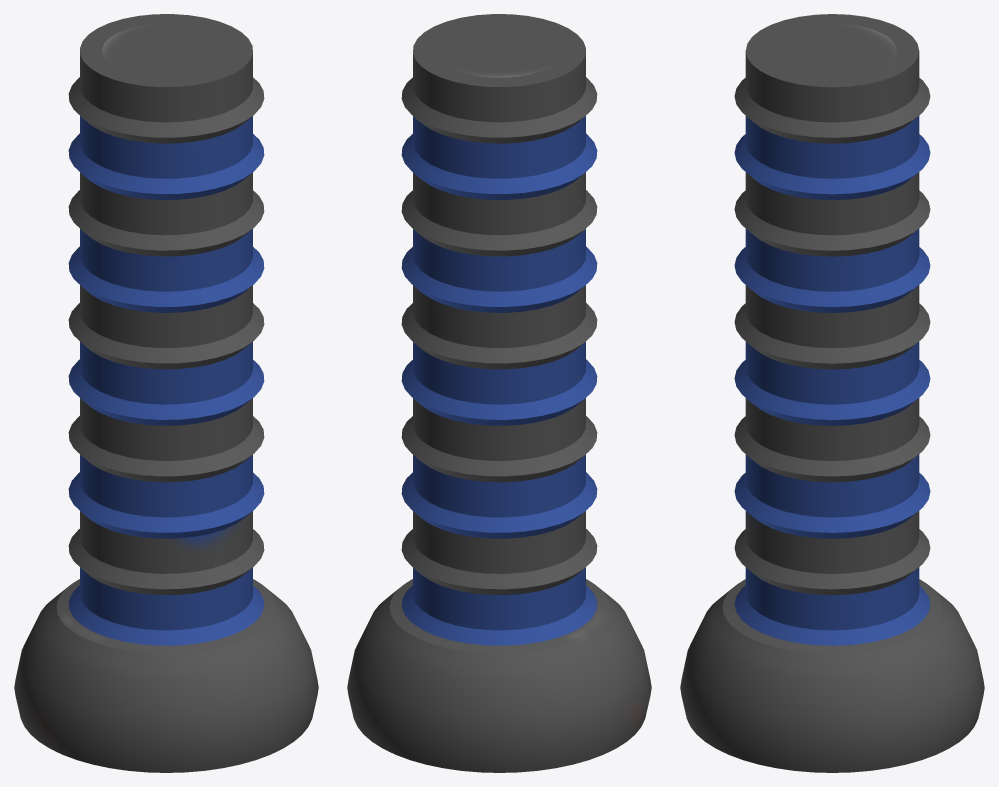
Rendered from foodtubejoined.fbx.
3 renders of one model, left to right at view 1: azimuth 30°, elevation 25°; view 2: azimuth 150°, elevation 25°; view 3: azimuth 270°, elevation 25°, orthographic.
Parts seen in each view (by area): view 1: Cylinder; view 2: Cylinder; view 3: Cylinder.
Boxes of the visible parts, <box> form: Cylinder: <box>14,14,318,772</box>; Cylinder: <box>347,14,651,772</box>; Cylinder: <box>680,14,984,772</box>.
Size of the model in its own units: 351 by 840 by 351.
